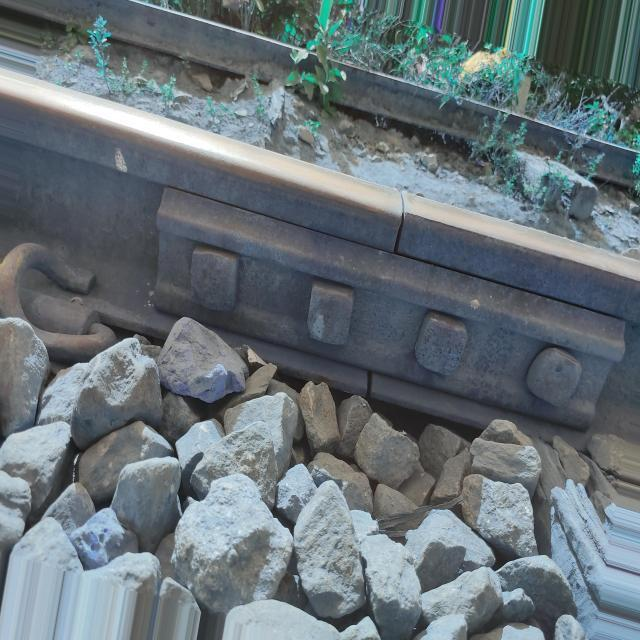Good Fasteners: (0, 243, 112, 363)
Good Joint: (150, 179, 633, 437)
